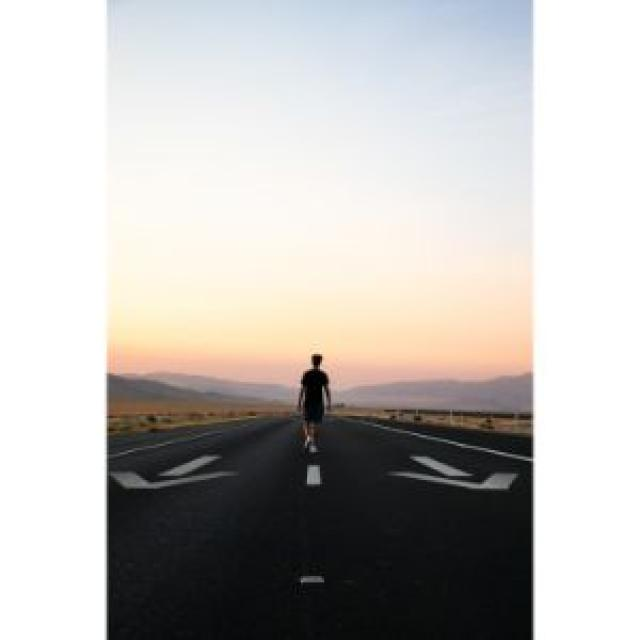nonfall: (285, 336, 351, 463)
